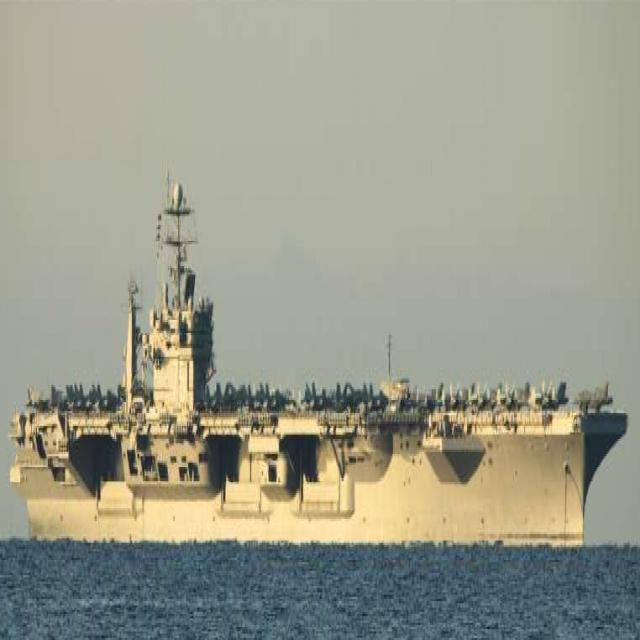Portanaves: (9, 170, 630, 557)
